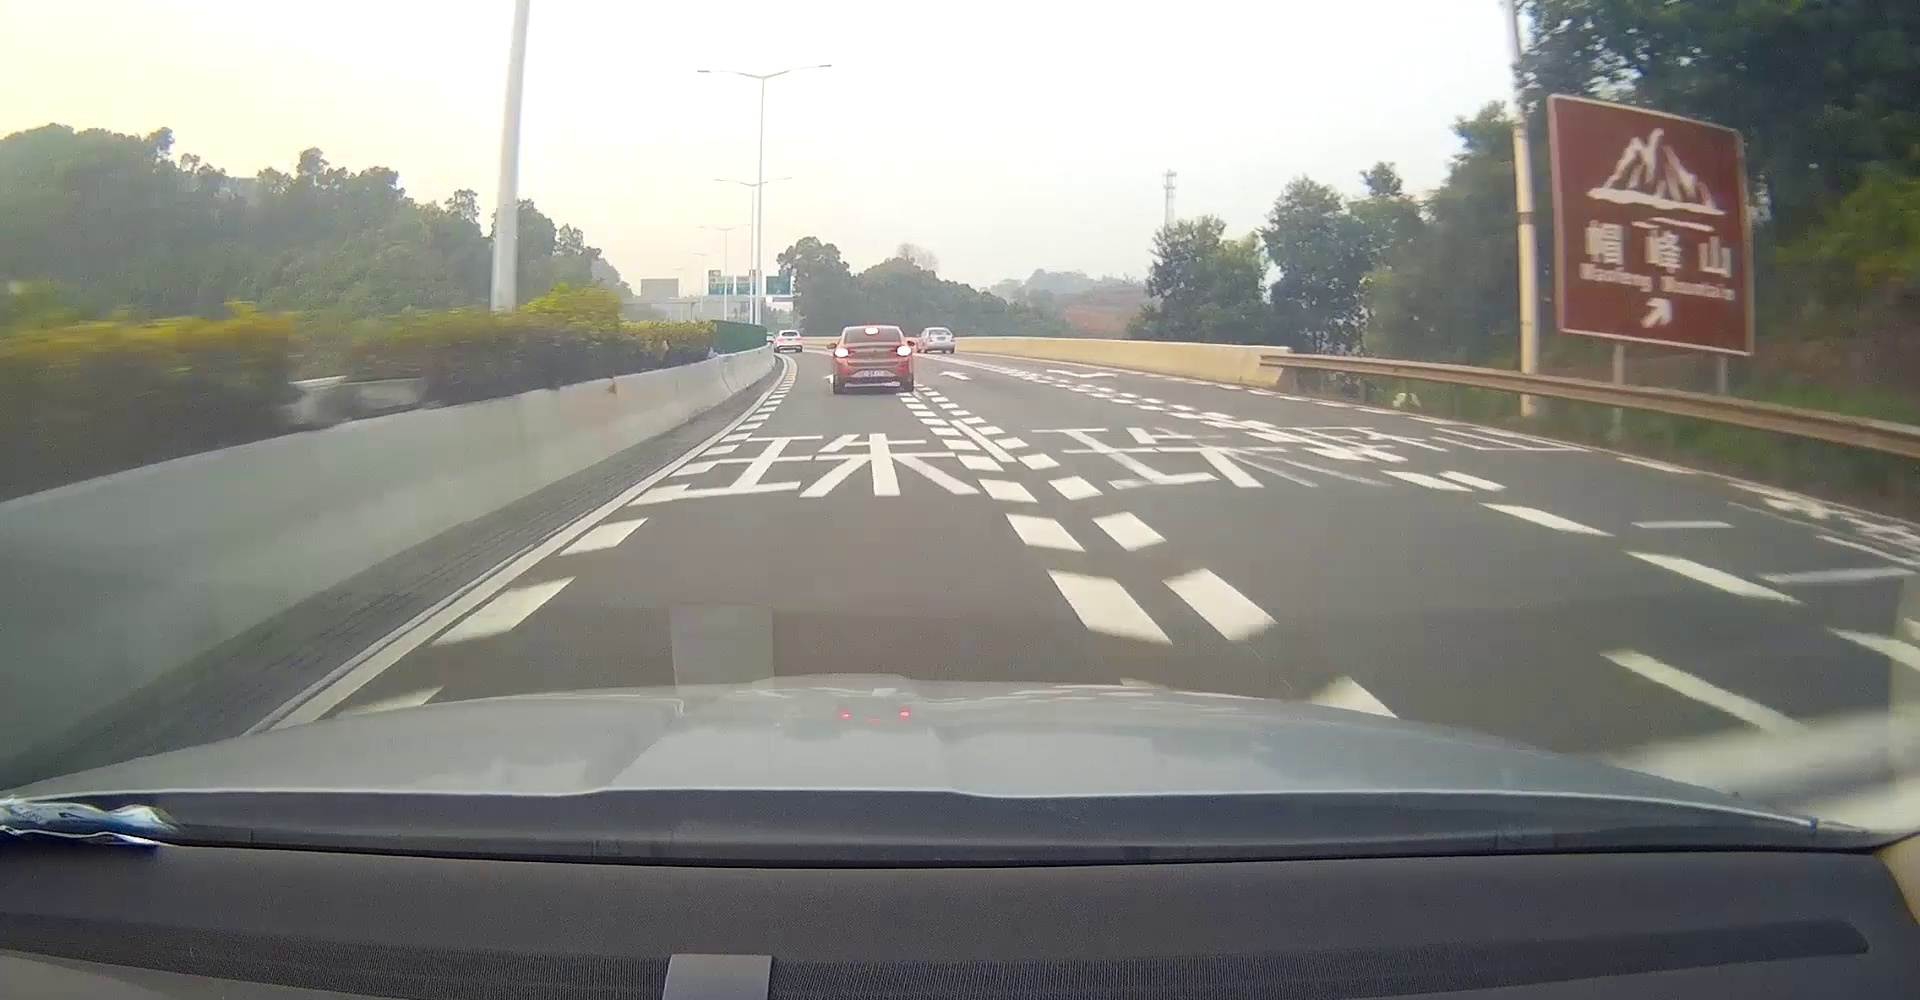L_light: (836, 350, 855, 357)
R_light: (890, 346, 910, 355)
T_light: (865, 327, 879, 332)
day-brake: (834, 324, 910, 393)
